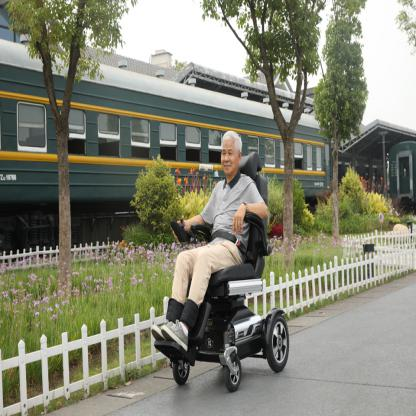wheelchair: (160, 128, 288, 386)
